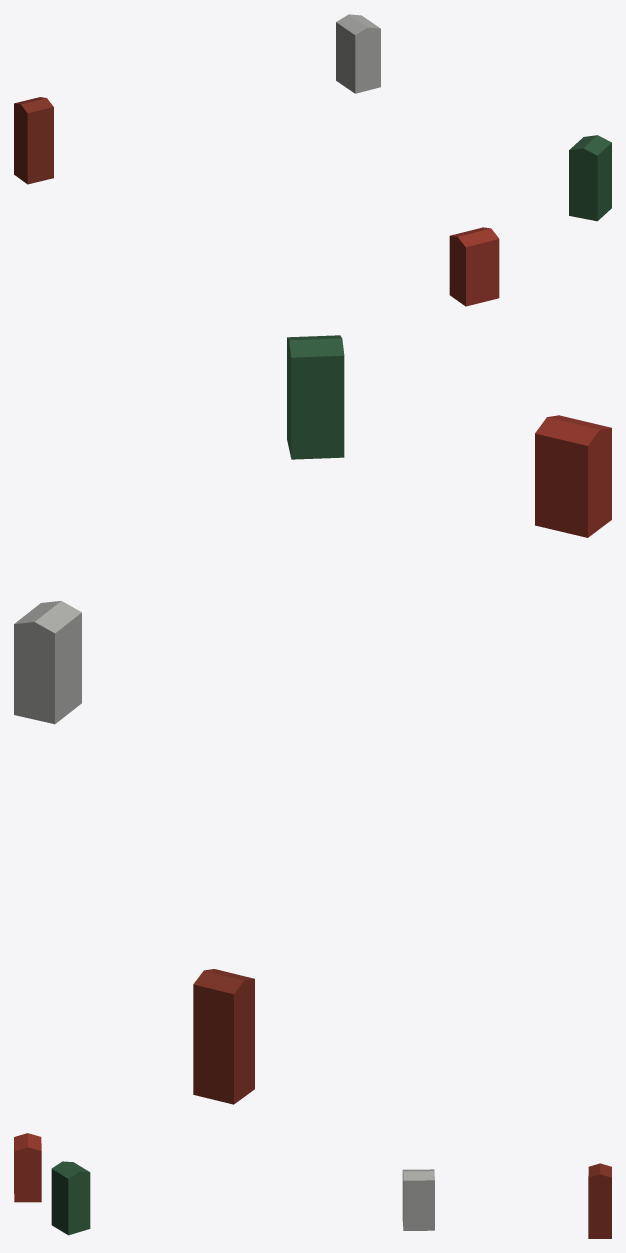
The model's file is near-15-27354-14877.c430d1d7.glb.
3 views of the same model, one above another, from view 1: azimuth 30°, elevation 25°; view 2: azimuth 150°, elevation 25°; view 3: azimuth 270°, elevation 25° (orthographic). The views are drawn at different scales.
Size of the model in its own units: 84.78 by 57.27 by 181.
